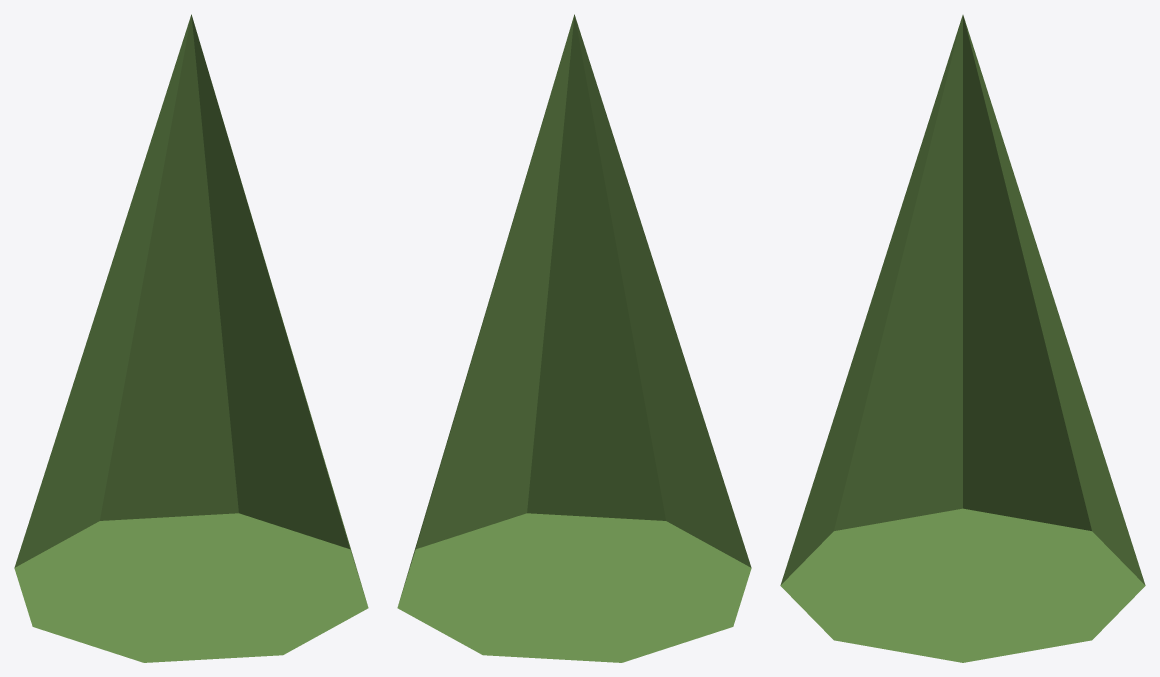
The model's file is tree_maple.glb.
The picture shows the model from 3 angles, left to right: view 1: azimuth 30°, elevation 25°; view 2: azimuth 150°, elevation 25°; view 3: azimuth 270°, elevation 25°; orthographic projection.
Parts seen in each view (by area): view 1: Maple; view 2: Maple; view 3: Maple.
Boxes of the visible parts, x1,y1,x2,y2 form: Maple: (14,14,368,662); Maple: (397,14,751,662); Maple: (780,15,1145,662).
Size of the model in its own units: 1.1 by 1.9 by 1.1.
